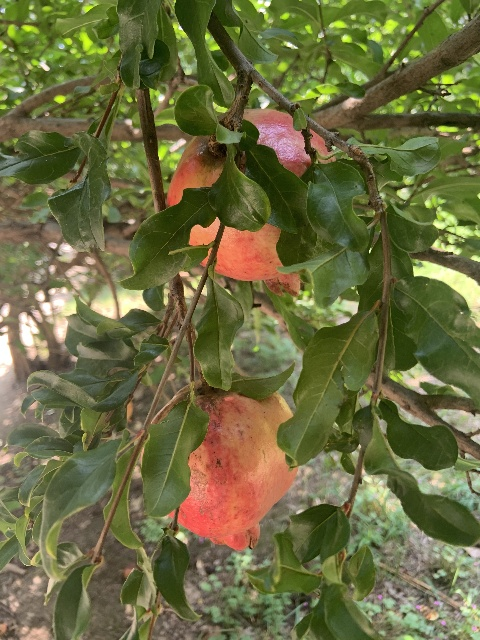ripe: (167, 107, 337, 299), (150, 382, 298, 550)
